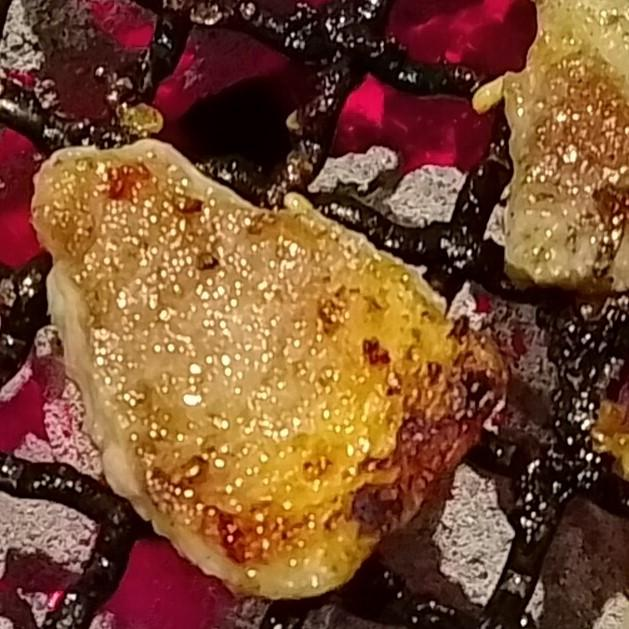Well-Cooked: (31, 140, 508, 601), (501, 0, 628, 325)
